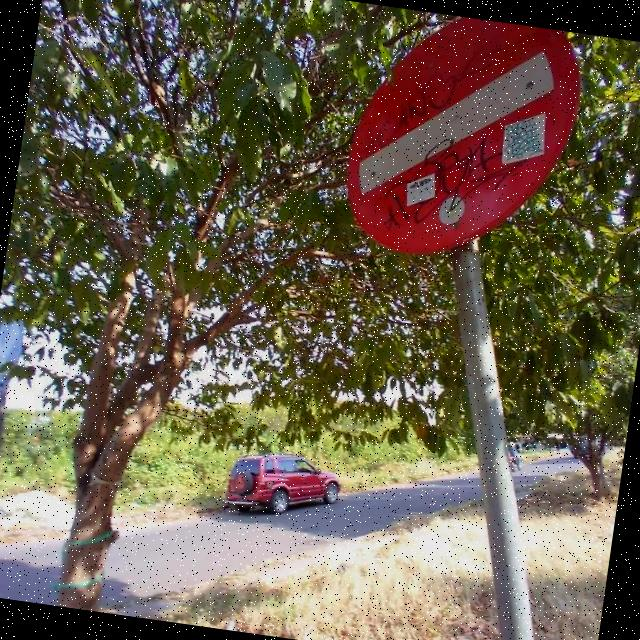Zakaz wjazdu: (336, 13, 588, 276)
